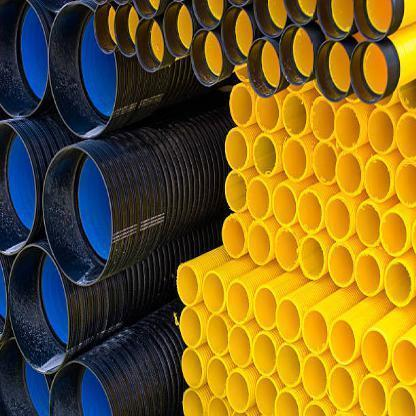pipe: (42, 146, 113, 286), (48, 1, 119, 138), (8, 244, 69, 374), (0, 0, 48, 117), (0, 121, 37, 256), (0, 335, 53, 416), (48, 360, 114, 415), (350, 41, 389, 103), (278, 24, 314, 86), (315, 41, 351, 102), (247, 38, 282, 98), (221, 7, 253, 65), (162, 0, 193, 58), (191, 30, 222, 88), (134, 16, 165, 72), (354, 0, 394, 41), (317, 0, 354, 41), (384, 259, 414, 307), (114, 6, 141, 56), (336, 150, 364, 197), (253, 0, 287, 38), (364, 156, 392, 202), (362, 329, 390, 375), (324, 196, 352, 241), (380, 211, 408, 256), (329, 318, 356, 364), (328, 366, 355, 412), (93, 4, 117, 55), (355, 250, 381, 297), (391, 338, 416, 386), (368, 108, 394, 154), (328, 242, 354, 288), (312, 140, 338, 185), (334, 105, 360, 149), (282, 138, 308, 182), (298, 190, 324, 234), (299, 236, 325, 280), (276, 299, 302, 343), (302, 310, 328, 354), (359, 376, 388, 415), (356, 203, 381, 247), (302, 356, 327, 400), (282, 94, 308, 136), (394, 159, 416, 208), (222, 215, 246, 259), (275, 227, 299, 271), (253, 286, 277, 330), (310, 98, 335, 140), (253, 134, 278, 176), (225, 128, 249, 171), (246, 176, 270, 219), (227, 280, 250, 324), (272, 184, 296, 226), (176, 264, 200, 306), (228, 325, 252, 367), (276, 344, 300, 386), (202, 271, 225, 313), (206, 314, 229, 356), (253, 333, 276, 375), (226, 370, 249, 412), (230, 84, 252, 127), (248, 222, 270, 265), (206, 356, 228, 399), (396, 113, 416, 160), (255, 95, 280, 132), (225, 170, 247, 212), (180, 307, 202, 349), (388, 384, 416, 415), (182, 347, 203, 388), (256, 377, 278, 415), (275, 389, 300, 416), (182, 389, 204, 416), (206, 395, 230, 415)
